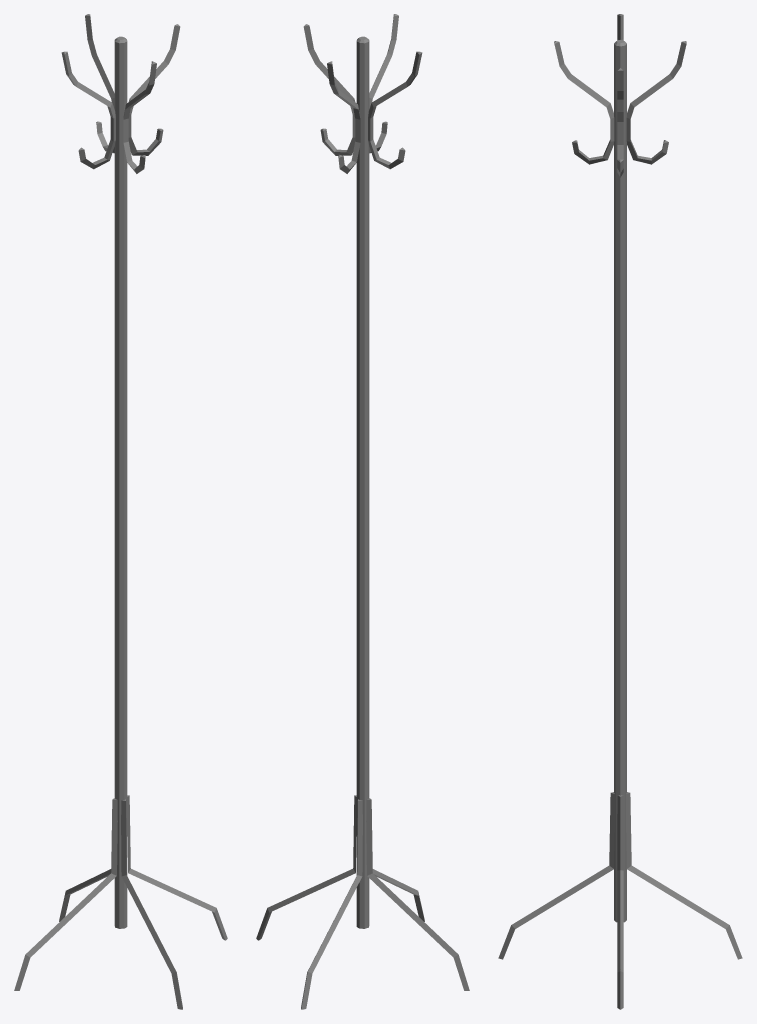
The model's file is Coat Rack.glb.
The picture shows the model from 3 angles, left to right: view 1: azimuth 30°, elevation 25°; view 2: azimuth 150°, elevation 25°; view 3: azimuth 270°, elevation 25°; orthographic projection.
Parts seen in each view (by area): view 1: Coat_rack; view 2: Coat_rack; view 3: Coat_rack.
Boxes of the visible parts, x1=… form: Coat_rack: x1=14, y1=14, x2=227, y2=1009; Coat_rack: x1=256, y1=14, x2=469, y2=1009; Coat_rack: x1=498, y1=14, x2=742, y2=1009.
Bounding box in the file's own units: 0.9027 × 3.74 × 0.9027.
Materials: 1 (1 with a texture image).
